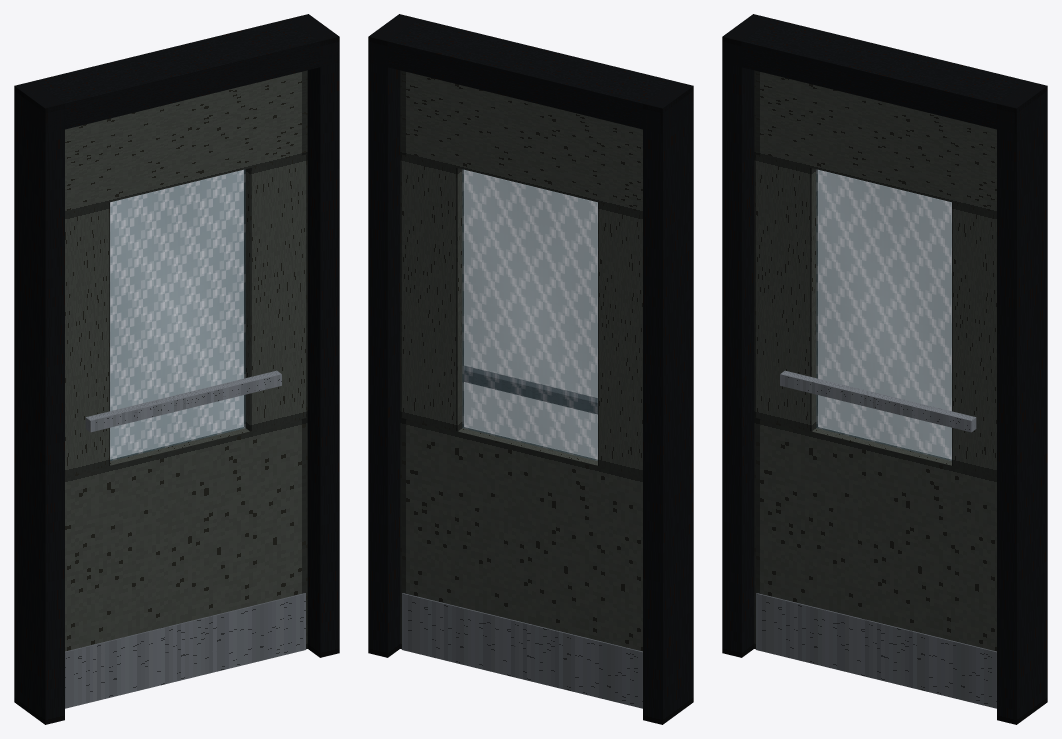
Rendered from office_door.glb.
3 views of the same model, side by side, from view 1: azimuth 30°, elevation 25°; view 2: azimuth 150°, elevation 25°; view 3: azimuth 330°, elevation 25° (orthographic).
Parts seen in each view (by area): view 1: office_door; view 2: office_door; view 3: office_door.
Part boxes in pixels (bbox=[...]): office_door: bbox=[14, 14, 339, 724]; office_door: bbox=[368, 14, 693, 724]; office_door: bbox=[722, 14, 1047, 724].
Bounding box in the file's own units: 1.2 × 2.4 × 0.22.
Materials: 5 (5 with a texture image).
